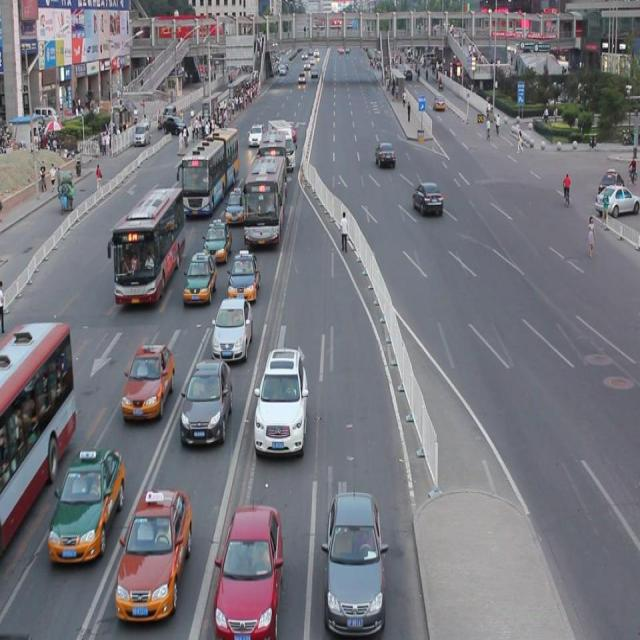bus: (268, 122, 295, 170)
car: (116, 484, 191, 615), (213, 502, 283, 640), (322, 490, 387, 632), (49, 448, 123, 558), (254, 348, 307, 453), (181, 362, 232, 442), (123, 342, 174, 417), (210, 296, 252, 360), (225, 249, 258, 303), (182, 250, 215, 302), (592, 182, 640, 214), (202, 219, 230, 263), (411, 180, 442, 215), (226, 186, 247, 224), (374, 141, 394, 165), (246, 123, 263, 147), (286, 123, 296, 139)
van: (1, 320, 75, 555), (107, 190, 184, 306), (176, 130, 238, 215), (243, 153, 284, 243), (256, 132, 290, 189)
